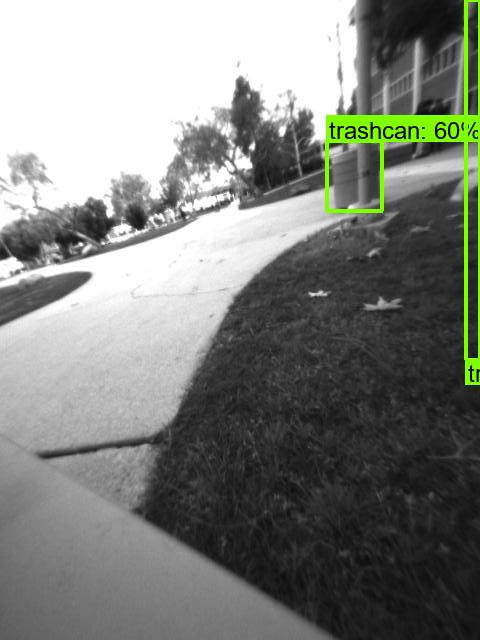trashcan: (330, 138, 385, 210)
